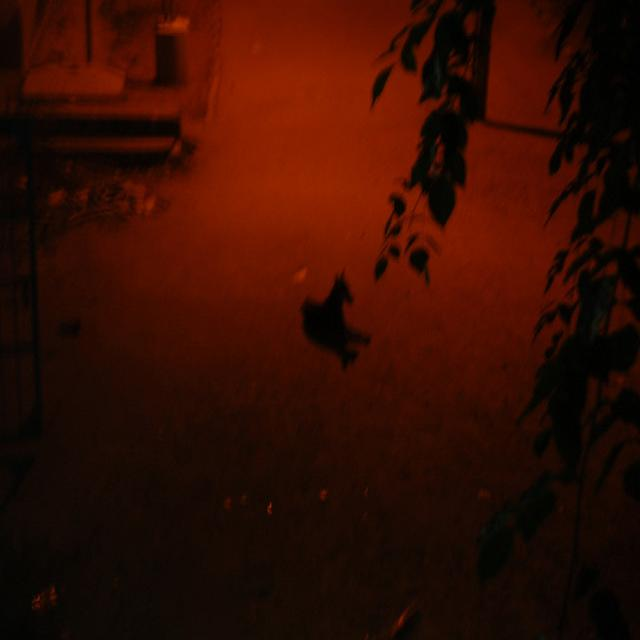Dog: (274, 266, 380, 372)
